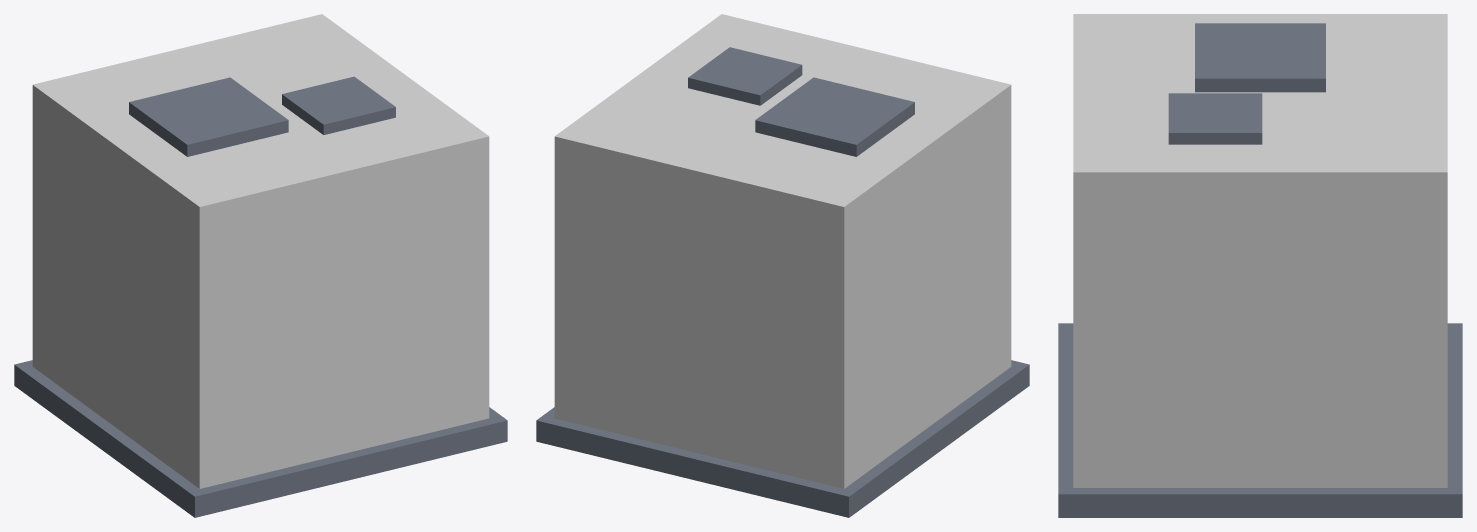
File: bldg_modern.glb
3 views of the same model, side by side, from view 1: azimuth 30°, elevation 25°; view 2: azimuth 150°, elevation 25°; view 3: azimuth 270°, elevation 25° (orthographic). The views are drawn at different scales.
Visible parts, largest first — view 1: bldg_modern; view 2: bldg_modern; view 3: bldg_modern.
Part boxes in pixels (x1=…): bldg_modern: x1=14, y1=14, x2=507, y2=517; bldg_modern: x1=536, y1=14, x2=1029, y2=517; bldg_modern: x1=1058, y1=14, x2=1462, y2=517.
Bounding box in the file's own units: 1.08 × 1.04 × 1.08.
